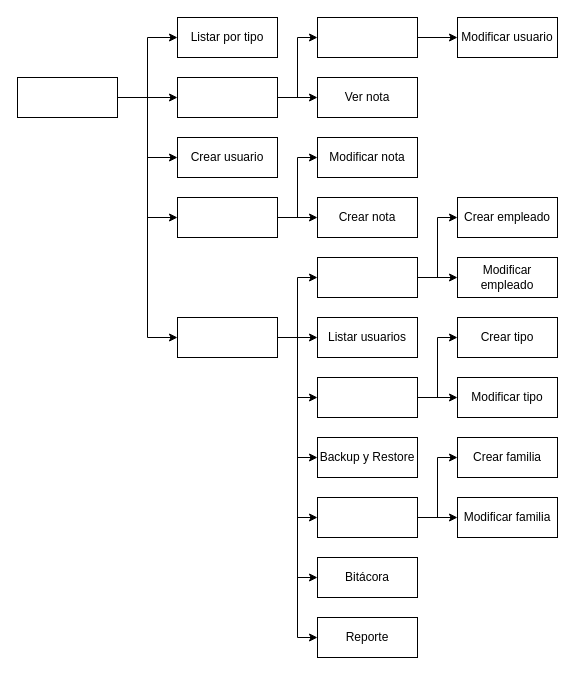
Image size: 575x675. Some labels were removed from this diagram. The centre of each missing label's shape, as x and y in pixels:
Inicio Sesión: the point at 67,97
Listar empleados: the point at 367,277
Listar familias: the point at 367,517
Listar notas: the point at 227,97
Listar tipos: the point at 367,397
Perfil usuario: the point at 367,37
Sección admin: the point at 227,337
Sección escritor: the point at 227,217
